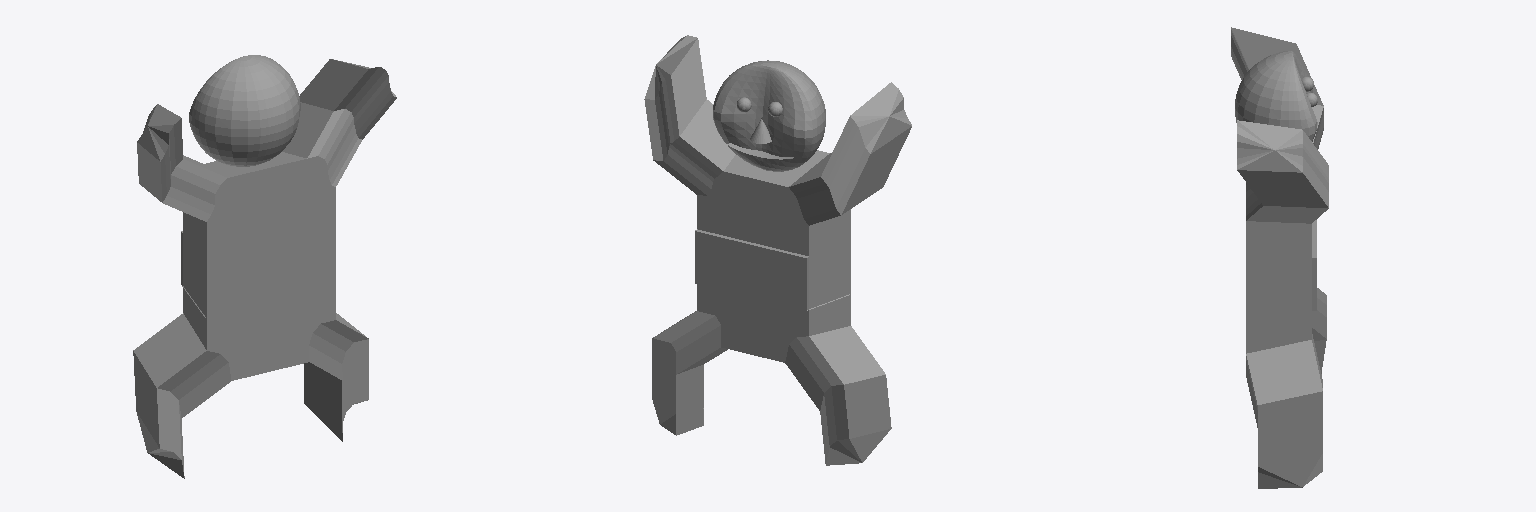
The model's file is man.obj.
3 views of the same model, side by side, from view 1: azimuth 30°, elevation 25°; view 2: azimuth 150°, elevation 25°; view 3: azimuth 270°, elevation 25° (orthographic).
Visible parts, largest first — view 1: Cube; view 2: Cube; view 3: Cube.
Boxes of the visible parts, x1=… form: Cube: x1=133, y1=55, x2=396, y2=478; Cube: x1=644, y1=35, x2=911, y2=465; Cube: x1=1231, y1=27, x2=1328, y2=488.
Size of the model in its own units: 132 by 206 by 46.66.